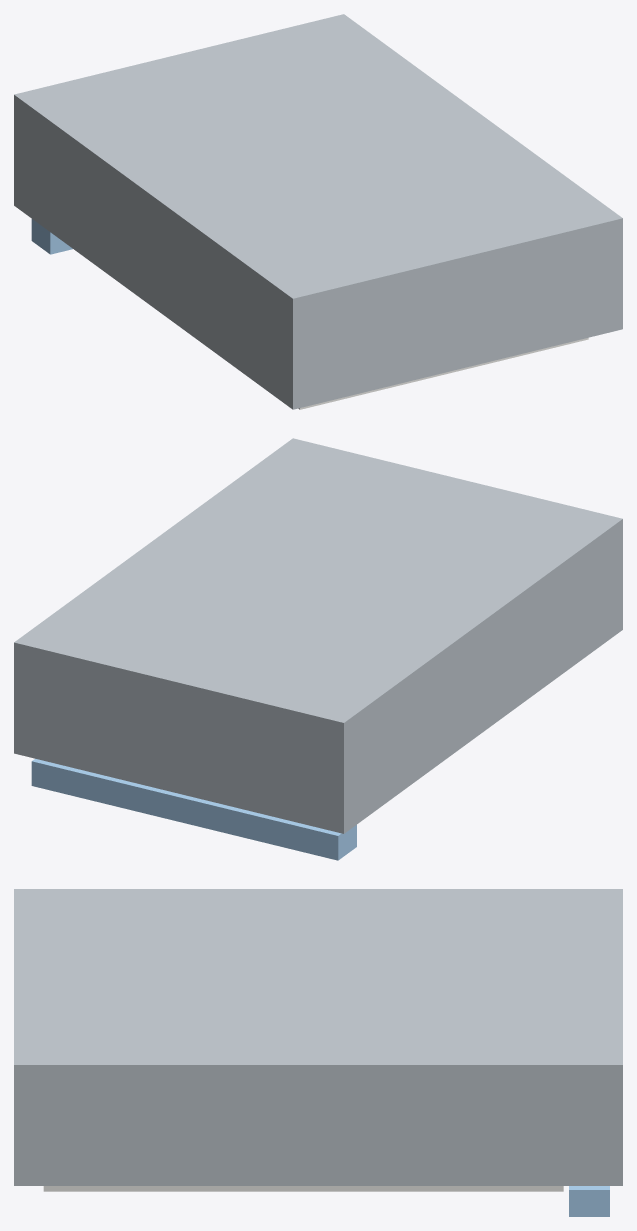
File: tile_crystal.glb
3 views of the same model, one above another, from view 1: azimuth 30°, elevation 25°; view 2: azimuth 150°, elevation 25°; view 3: azimuth 270°, elevation 25° (orthographic). The views are drawn at different scales.
Visible parts, largest first — view 1: tile_body, tile_face, tile_bottom_edge; view 2: tile_body, tile_bottom_edge; view 3: tile_body, tile_face, tile_bottom_edge.
Boxes of the visible parts, box(x1,y1,x2,y2) form: tile_body: box(14, 14, 622, 409); tile_face: box(298, 337, 588, 409); tile_bottom_edge: box(31, 219, 72, 254); tile_body: box(14, 438, 622, 833); tile_bottom_edge: box(31, 758, 356, 860); tile_body: box(14, 889, 622, 1185); tile_face: box(43, 1186, 563, 1191); tile_bottom_edge: box(569, 1186, 609, 1216).
Size of the model in its own units: 0.56 by 0.235 by 0.82.
